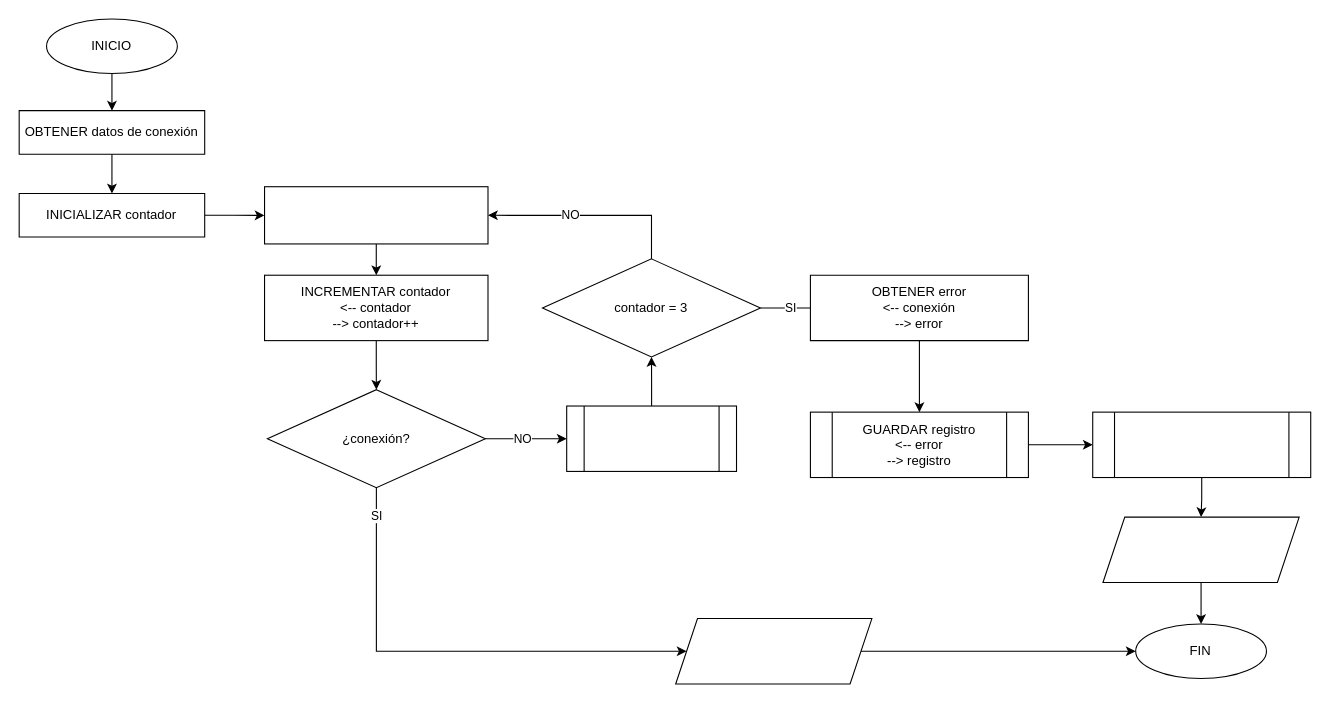
Image size: 1330x703. Some labels were removed from this diagram. The box of each missing label's shape, as (x1, y1, x2, y2) in pixels:
CONECTAR servidor FTP <-- datos de conexión --> conexión: (263, 186, 488, 244)
ENVIAR notificacion <-- error --> correo: (1092, 411, 1311, 478)
ESPERAR N minutos <-- contador --> void: (566, 405, 737, 471)
EXIT "Error de conexión": (1102, 516, 1299, 582)
RETORNAR conexión: (675, 617, 872, 684)
